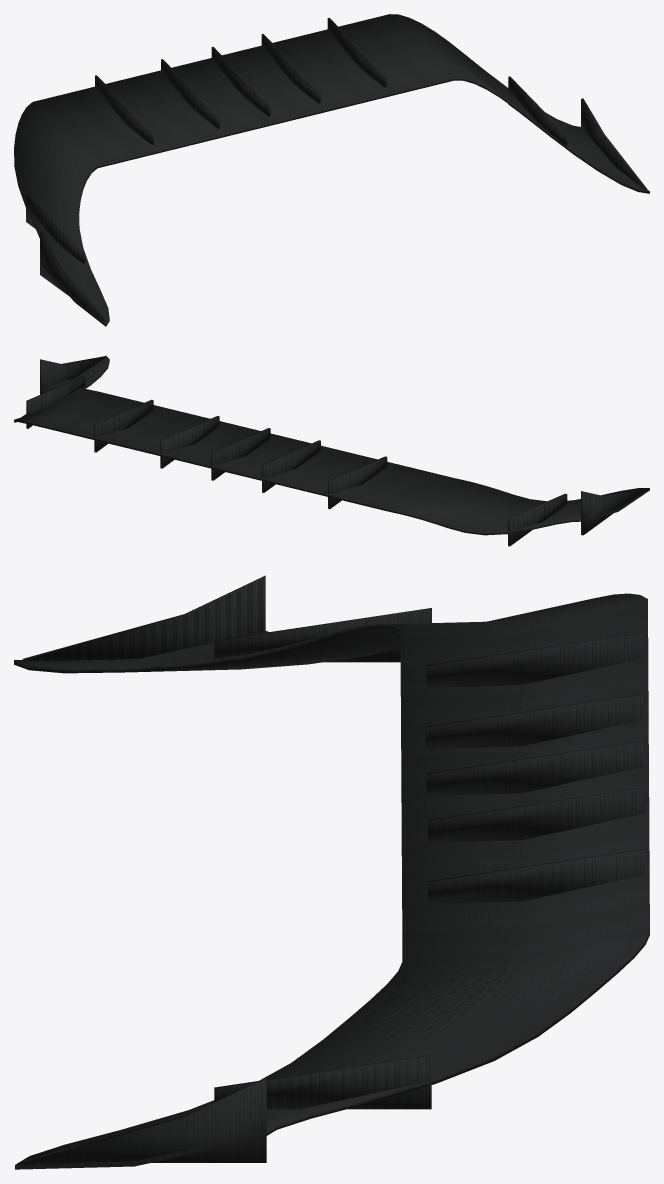
The model's file is WB12_widebody_diffuser.glb.
The picture shows the model from 3 angles, top to bottom: view 1: azimuth 30°, elevation 25°; view 2: azimuth 150°, elevation 25°; view 3: azimuth 270°, elevation 25°; orthographic projection. The views are drawn at different scales.
Visible parts, largest first — view 1: MOD_NC_WB12_plate, MOD_NC_WB12_fence_R, MOD_NC_WB12_fence_L, MOD_NC_WB12_strake_0, MOD_NC_WB12_strake_4, MOD_NC_WB12_strake_5, MOD_NC_WB12_strake_3, MOD_NC_WB12_strake_2, MOD_NC_WB12_strake_1, MOD_NC_WB12_strake_6; view 2: MOD_NC_WB12_plate, MOD_NC_WB12_fence_R, MOD_NC_WB12_strake_0, MOD_NC_WB12_fence_L, MOD_NC_WB12_strake_4, MOD_NC_WB12_strake_5, MOD_NC_WB12_strake_3, MOD_NC_WB12_strake_1, MOD_NC_WB12_strake_2, MOD_NC_WB12_strake_6; view 3: MOD_NC_WB12_plate, MOD_NC_WB12_fence_L, MOD_NC_WB12_fence_R, MOD_NC_WB12_strake_6, MOD_NC_WB12_strake_3, MOD_NC_WB12_strake_2, MOD_NC_WB12_strake_4, MOD_NC_WB12_strake_1, MOD_NC_WB12_strake_5, MOD_NC_WB12_strake_0.
Part boxes in pixels (<box>): MOD_NC_WB12_plate: <box>14,14,649,326</box>; MOD_NC_WB12_fence_R: <box>40,230,105,321</box>; MOD_NC_WB12_fence_L: <box>581,98,646,189</box>; MOD_NC_WB12_strake_0: <box>26,194,85,263</box>; MOD_NC_WB12_strake_4: <box>261,34,320,103</box>; MOD_NC_WB12_strake_5: <box>327,17,386,87</box>; MOD_NC_WB12_strake_3: <box>211,46,270,116</box>; MOD_NC_WB12_strake_2: <box>161,59,219,128</box>; MOD_NC_WB12_strake_1: <box>95,75,153,144</box>; MOD_NC_WB12_strake_6: <box>508,76,567,145</box>; MOD_NC_WB12_plate: <box>14,355,649,535</box>; MOD_NC_WB12_fence_R: <box>581,488,646,535</box>; MOD_NC_WB12_strake_0: <box>508,493,567,546</box>; MOD_NC_WB12_fence_L: <box>40,356,105,394</box>; MOD_NC_WB12_strake_4: <box>160,416,219,468</box>; MOD_NC_WB12_strake_5: <box>94,399,153,452</box>; MOD_NC_WB12_strake_3: <box>211,428,270,480</box>; MOD_NC_WB12_strake_1: <box>328,456,387,509</box>; MOD_NC_WB12_strake_2: <box>262,440,320,492</box>; MOD_NC_WB12_strake_6: <box>26,376,85,428</box>; MOD_NC_WB12_plate: <box>14,593,649,1169</box>; MOD_NC_WB12_fence_L: <box>23,1077,266,1162</box>; MOD_NC_WB12_fence_R: <box>22,575,265,660</box>; MOD_NC_WB12_strake_6: <box>214,1055,431,1109</box>; MOD_NC_WB12_strake_3: <box>426,741,643,795</box>; MOD_NC_WB12_strake_2: <box>426,694,643,748</box>; MOD_NC_WB12_strake_4: <box>428,787,645,841</box>; MOD_NC_WB12_strake_1: <box>426,632,643,686</box>; MOD_NC_WB12_strake_5: <box>428,848,645,902</box>; MOD_NC_WB12_strake_0: <box>214,608,431,662</box>.
Size of the model in its own units: 1.4 by 0.2273 by 0.7453.
Materials: 1 (1 with a texture image).
